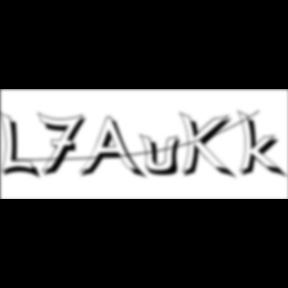7: (38, 111, 92, 179)
A: (79, 116, 148, 182)
K: (180, 110, 238, 182)
L: (1, 110, 44, 182)
k: (238, 108, 288, 181)
u: (139, 132, 187, 178)
